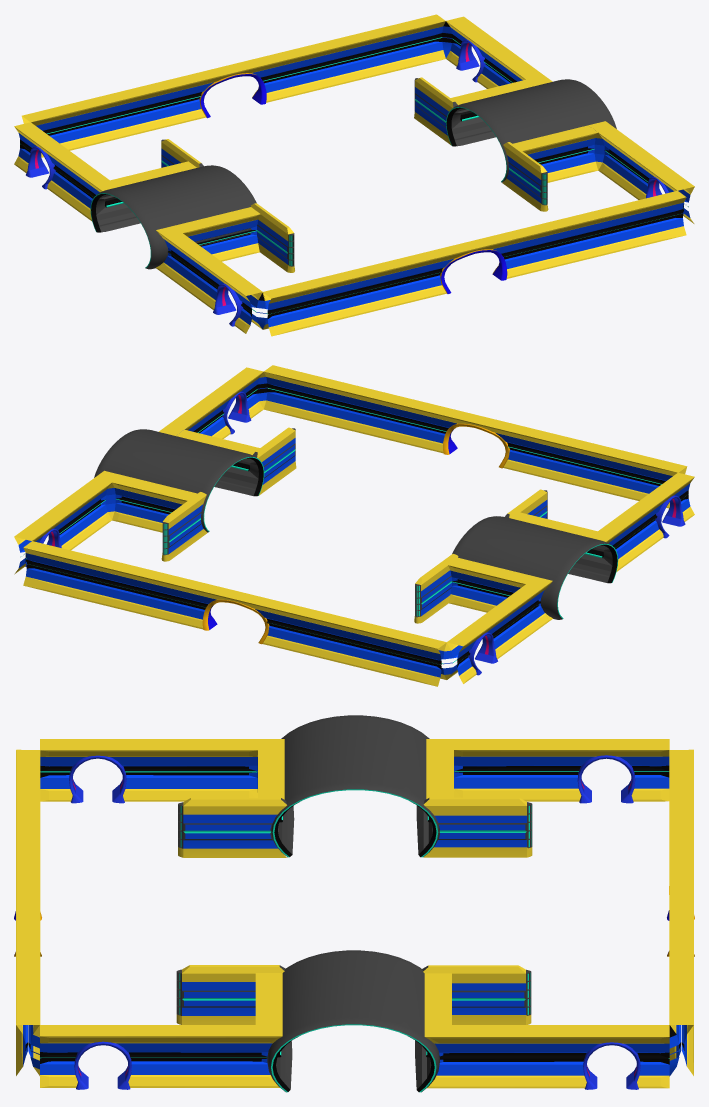
The model's file is New Lower Inner Walls.FBX.
3 renders of one model, top to bottom at view 1: azimuth 30°, elevation 25°; view 2: azimuth 150°, elevation 25°; view 3: azimuth 270°, elevation 25°, orthographic. The views are drawn at different scales.
Parts seen in each view (by area): view 1: Object108, Object118, Tube015, Tube013, Object120, Object117, Object121, Object116, Object111, Object115, Box051, Box050 (+12 smaller); view 2: Object117, Object119, Tube015, Tube013, Object121, Object108, Object120, Object112, Object114, Object113, Box047, Object122 (+12 smaller); view 3: Tube013, Object122, Tube015, Object123, Object105, Object106, Object108, Object117, Box049, Box050, Box047, Box051 (+11 smaller).
Part boxes in pixels (x1,y1,x2,y2): Object108: [22, 14, 445, 157]; Object118: [267, 197, 686, 336]; Tube015: [90, 165, 256, 269]; Tube013: [446, 79, 616, 182]; Object120: [156, 226, 262, 333]; Object117: [262, 190, 686, 329]; Object121: [14, 122, 118, 220]; Object116: [512, 125, 597, 182]; Object111: [173, 207, 260, 261]; Object115: [594, 133, 683, 215]; Box051: [502, 142, 548, 211]; Box050: [251, 203, 294, 272]; Object117: [263, 365, 686, 508]; Object119: [23, 548, 441, 686]; Tube015: [452, 516, 618, 619]; Tube013: [94, 429, 264, 532]; Object121: [447, 577, 552, 683]; Object108: [23, 541, 446, 679]; Object120: [589, 472, 694, 571]; Object112: [448, 558, 535, 612]; Object114: [112, 475, 197, 532]; Object113: [25, 483, 116, 565]; Box047: [161, 492, 207, 561]; Object122: [14, 470, 121, 574]; Tube013: [267, 950, 439, 1092]; Object122: [424, 1025, 669, 1088]; Tube015: [271, 715, 439, 857]; Object123: [40, 1025, 282, 1087]; Object105: [40, 750, 257, 801]; Object106: [454, 750, 669, 801]; Object108: [669, 749, 693, 1060]; Object117: [16, 749, 40, 1060]; Box049: [423, 797, 532, 857]; Box050: [178, 798, 286, 857]; Box047: [422, 965, 531, 1024]; Box051: [176, 965, 285, 1024].
Bounding box in the file's own units: 84.08 × 9.2 × 78.32.
